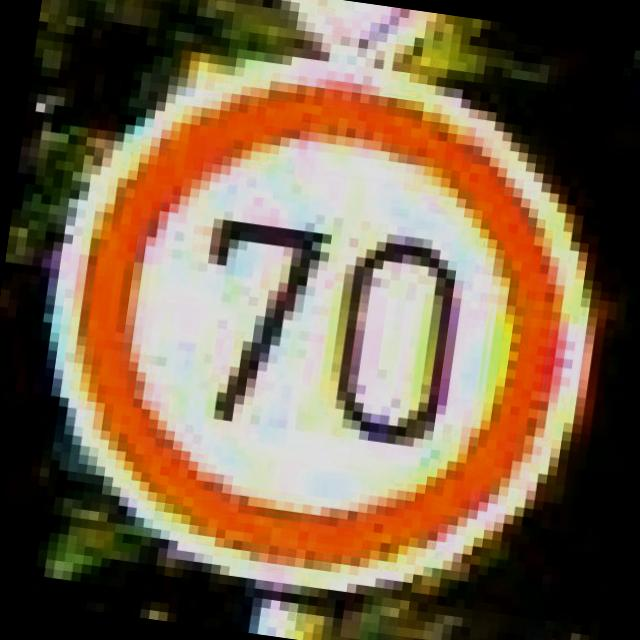Ograniczenie predkosci do 70: (20, 29, 619, 620)
